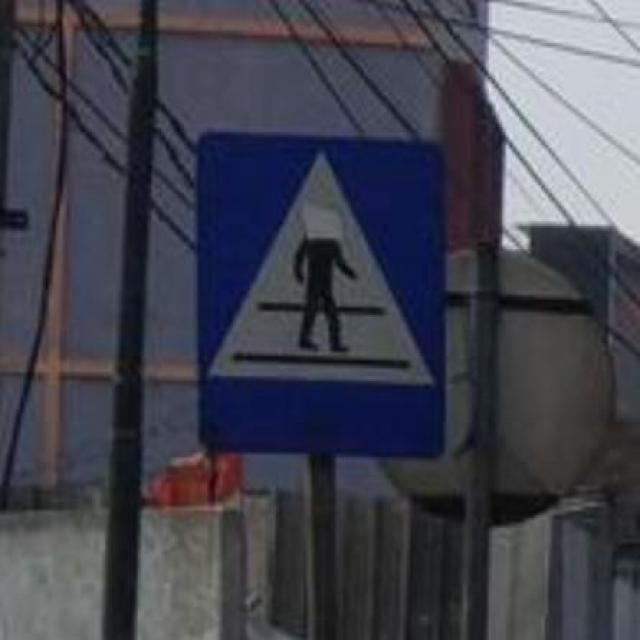traffic sign: (198, 130, 446, 462)
